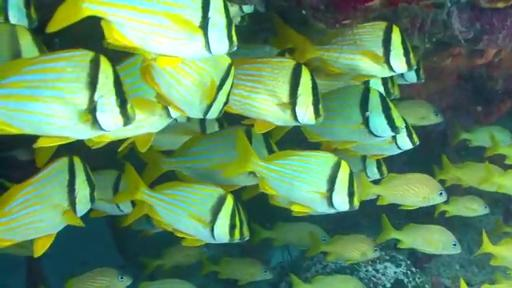Fish: (0, 49, 135, 147), (46, 0, 237, 63), (114, 164, 249, 245), (225, 140, 359, 215), (0, 156, 95, 256), (273, 16, 416, 77), (143, 126, 277, 190), (226, 57, 323, 132), (301, 84, 405, 147), (141, 55, 235, 119), (85, 98, 174, 152), (327, 122, 419, 159), (376, 215, 460, 254), (360, 173, 447, 209), (151, 117, 227, 151), (435, 156, 506, 191), (314, 73, 400, 99), (251, 222, 330, 249), (89, 170, 133, 217), (140, 245, 208, 275), (308, 235, 380, 263), (201, 257, 272, 285), (0, 24, 46, 63), (116, 55, 156, 99), (332, 150, 387, 180), (476, 230, 511, 268), (393, 100, 443, 126), (64, 268, 132, 287), (451, 126, 511, 147), (435, 196, 489, 216), (0, 0, 38, 28), (476, 166, 511, 195), (290, 274, 365, 287), (484, 135, 511, 164), (366, 76, 400, 99), (229, 44, 281, 58), (128, 215, 164, 235), (396, 59, 424, 84), (228, 2, 255, 24), (0, 240, 33, 256), (481, 272, 511, 287), (139, 279, 195, 287), (492, 219, 511, 235), (460, 278, 467, 287)
